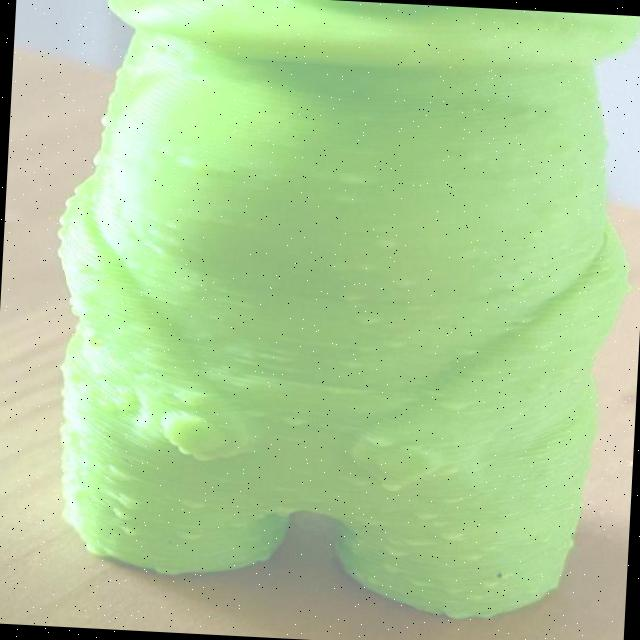blobs: (361, 431, 401, 452), (369, 232, 402, 255), (267, 501, 301, 520), (280, 413, 310, 432), (336, 289, 364, 307), (117, 493, 143, 512), (381, 477, 405, 496), (387, 335, 412, 353), (391, 276, 418, 292), (442, 530, 466, 548), (182, 496, 205, 514), (404, 538, 431, 552), (358, 312, 383, 327), (444, 398, 466, 414), (339, 357, 362, 372), (190, 454, 218, 466), (462, 592, 486, 606), (415, 511, 438, 525), (479, 579, 502, 593), (458, 344, 480, 358), (177, 530, 200, 543), (120, 524, 138, 540), (436, 466, 458, 479), (364, 516, 384, 530), (113, 508, 132, 522), (406, 578, 428, 590), (347, 477, 367, 490), (383, 548, 403, 561), (384, 564, 402, 575)
